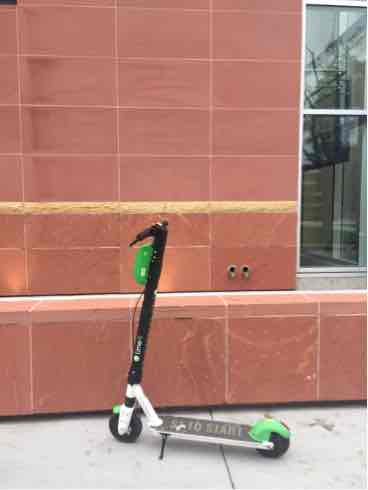scooter: (107, 215, 295, 464)
